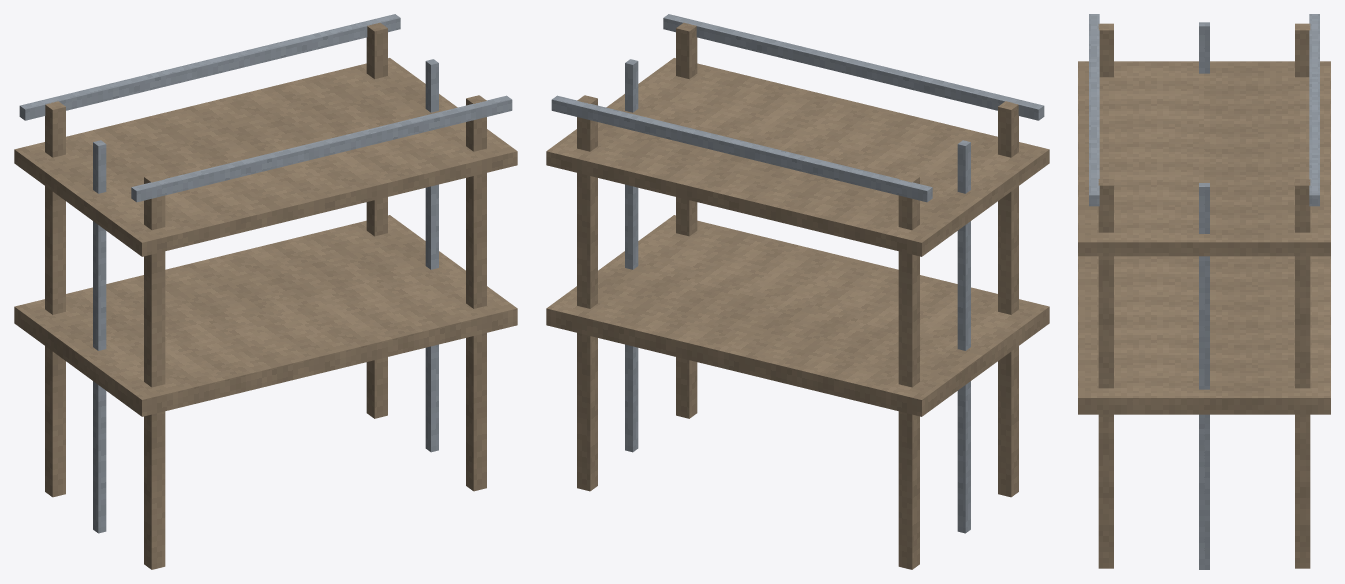
Rendered from level_blockout_restoration_scaffold.glb.
3 views of the same model, side by side, from view 1: azimuth 30°, elevation 25°; view 2: azimuth 150°, elevation 25°; view 3: azimuth 270°, elevation 25° (orthographic).
Parts seen in each view (by area): view 1: level_blockout_restoration_scaffold; view 2: level_blockout_restoration_scaffold; view 3: level_blockout_restoration_scaffold.
Part boxes in pixels (x1,y1,x2,y2): level_blockout_restoration_scaffold: (14,14,517,569); level_blockout_restoration_scaffold: (546,14,1049,569); level_blockout_restoration_scaffold: (1078,14,1330,569).
Size of the model in its own units: 2.8 by 2.76 by 1.65.
2 materials, 2 textured.
